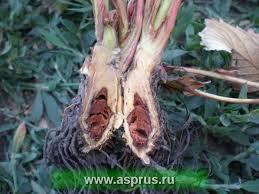Verticillium wilt: (86, 88, 112, 139), (127, 94, 150, 146)
